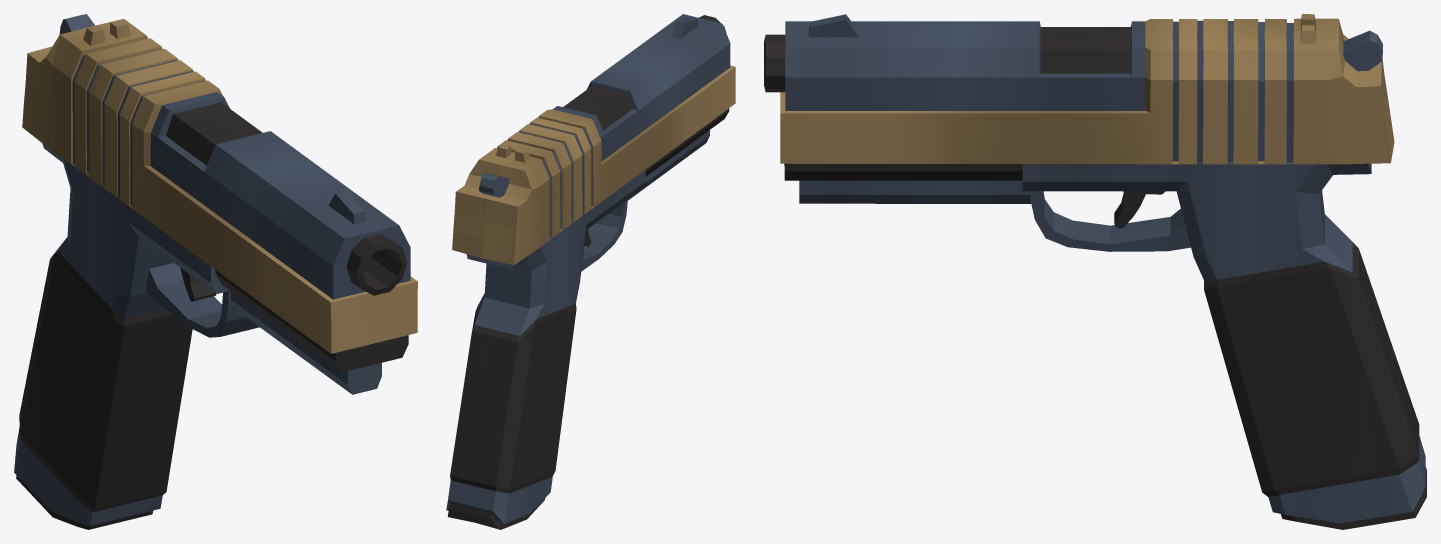
3 views of the same model, side by side, from view 1: azimuth 30°, elevation 25°; view 2: azimuth 150°, elevation 25°; view 3: azimuth 270°, elevation 25° (orthographic). The views are drawn at different scales.
Visible parts, largest first — view 1: talon; view 2: talon; view 3: talon.
Boxes of the visible parts, x1=… form: talon: x1=14, y1=14, x2=417, y2=529; talon: x1=446, y1=14, x2=735, y2=529; talon: x1=764, y1=14, x2=1426, y2=529.
Size of the model in its own units: 0.0358 by 0.1937 by 0.235.
1 material, 1 textured.
